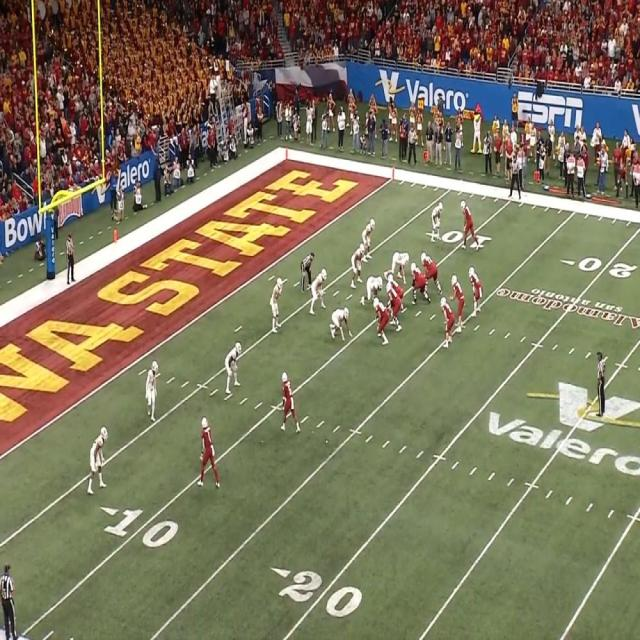center: (388, 271, 406, 298)
db: (224, 340, 242, 392), (145, 361, 158, 424), (430, 201, 442, 240)
lb: (312, 268, 329, 309), (272, 278, 284, 328), (352, 242, 364, 284), (365, 217, 372, 262)
qb: (451, 274, 465, 332)
